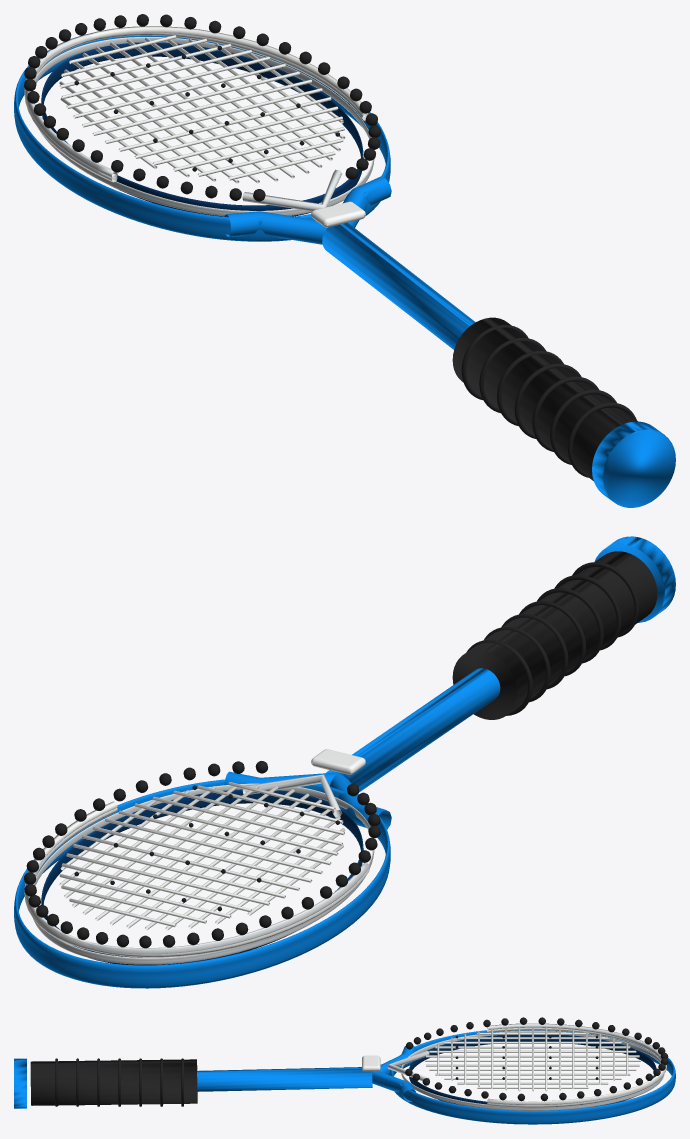
Rendered from Tennisschlaeger_3D_v2.glb.
3 renders of one model, top to bottom at view 1: azimuth 30°, elevation 25°; view 2: azimuth 150°, elevation 25°; view 3: azimuth 270°, elevation 25°, orthographic. The views are drawn at different scales.
Parts seen in each view (by area): view 1: Tennisschlaeger_3D_v2__web_blue_metallic_tennis_racket_frame, Tennisschlaeger_3D_v2__web_black_tennis_racket_grip_and_grom, Tennisschlaeger_3D_v2__web_bright_white_tennis_racket_string, Tennisschlaeger_3D_v2__web_silver_tennis_racket_accent_strip, Tennisschlaeger_3D_v2__web_dark_blue_tennis_racket_edge_shad, Tennisschlaeger_3D_v2__web_white_painted_tennis_racket_inlay, Tennisschlaeger_3D_v2__web_v2_extra_white_tennis_racket_thro; view 2: Tennisschlaeger_3D_v2__web_black_tennis_racket_grip_and_grom, Tennisschlaeger_3D_v2__web_blue_metallic_tennis_racket_frame, Tennisschlaeger_3D_v2__web_bright_white_tennis_racket_string, Tennisschlaeger_3D_v2__web_silver_tennis_racket_accent_strip, Tennisschlaeger_3D_v2__web_dark_blue_tennis_racket_edge_shad, Tennisschlaeger_3D_v2__web_white_painted_tennis_racket_inlay, Tennisschlaeger_3D_v2__web_v2_extra_white_tennis_racket_thro; view 3: Tennisschlaeger_3D_v2__web_blue_metallic_tennis_racket_frame, Tennisschlaeger_3D_v2__web_black_tennis_racket_grip_and_grom, Tennisschlaeger_3D_v2__web_bright_white_tennis_racket_string, Tennisschlaeger_3D_v2__web_silver_tennis_racket_accent_strip, Tennisschlaeger_3D_v2__web_dark_blue_tennis_racket_edge_shad, Tennisschlaeger_3D_v2__web_white_painted_tennis_racket_inlay, Tennisschlaeger_3D_v2__web_v2_extra_white_tennis_racket_thro.
Part boxes in pixels (x1,y1,x2,y2): Tennisschlaeger_3D_v2__web_blue_metallic_tennis_racket_frame: (14,35,675,507); Tennisschlaeger_3D_v2__web_black_tennis_racket_grip_and_grom: (24,14,637,480); Tennisschlaeger_3D_v2__web_bright_white_tennis_racket_string: (59,35,345,183); Tennisschlaeger_3D_v2__web_silver_tennis_racket_accent_strip: (24,32,374,216); Tennisschlaeger_3D_v2__web_dark_blue_tennis_racket_edge_shad: (41,42,363,216); Tennisschlaeger_3D_v2__web_white_painted_tennis_racket_inlay: (24,26,369,182); Tennisschlaeger_3D_v2__web_v2_extra_white_tennis_racket_thro: (311,201,365,227); Tennisschlaeger_3D_v2__web_black_tennis_racket_grip_and_grom: (24,551,657,948); Tennisschlaeger_3D_v2__web_blue_metallic_tennis_racket_frame: (14,536,675,988); Tennisschlaeger_3D_v2__web_bright_white_tennis_racket_string: (59,782,345,930); Tennisschlaeger_3D_v2__web_silver_tennis_racket_accent_strip: (24,774,374,964); Tennisschlaeger_3D_v2__web_dark_blue_tennis_racket_edge_shad: (41,789,363,965); Tennisschlaeger_3D_v2__web_white_painted_tennis_racket_inlay: (24,801,369,957); Tennisschlaeger_3D_v2__web_v2_extra_white_tennis_racket_thro: (311,749,365,774); Tennisschlaeger_3D_v2__web_blue_metallic_tennis_racket_frame: (14,1030,675,1124); Tennisschlaeger_3D_v2__web_black_tennis_racket_grip_and_grom: (30,1017,668,1106); Tennisschlaeger_3D_v2__web_bright_white_tennis_racket_string: (425,1027,640,1091); Tennisschlaeger_3D_v2__web_silver_tennis_racket_accent_strip: (387,1023,665,1110); Tennisschlaeger_3D_v2__web_dark_blue_tennis_racket_edge_shad: (137,1035,656,1106); Tennisschlaeger_3D_v2__web_white_painted_tennis_racket_inlay: (487,1027,666,1104); Tennisschlaeger_3D_v2__web_v2_extra_white_tennis_racket_thro: (362,1055,380,1071).
Bounding box in the file's own units: 0.3404 × 0.0955 × 1.13.
